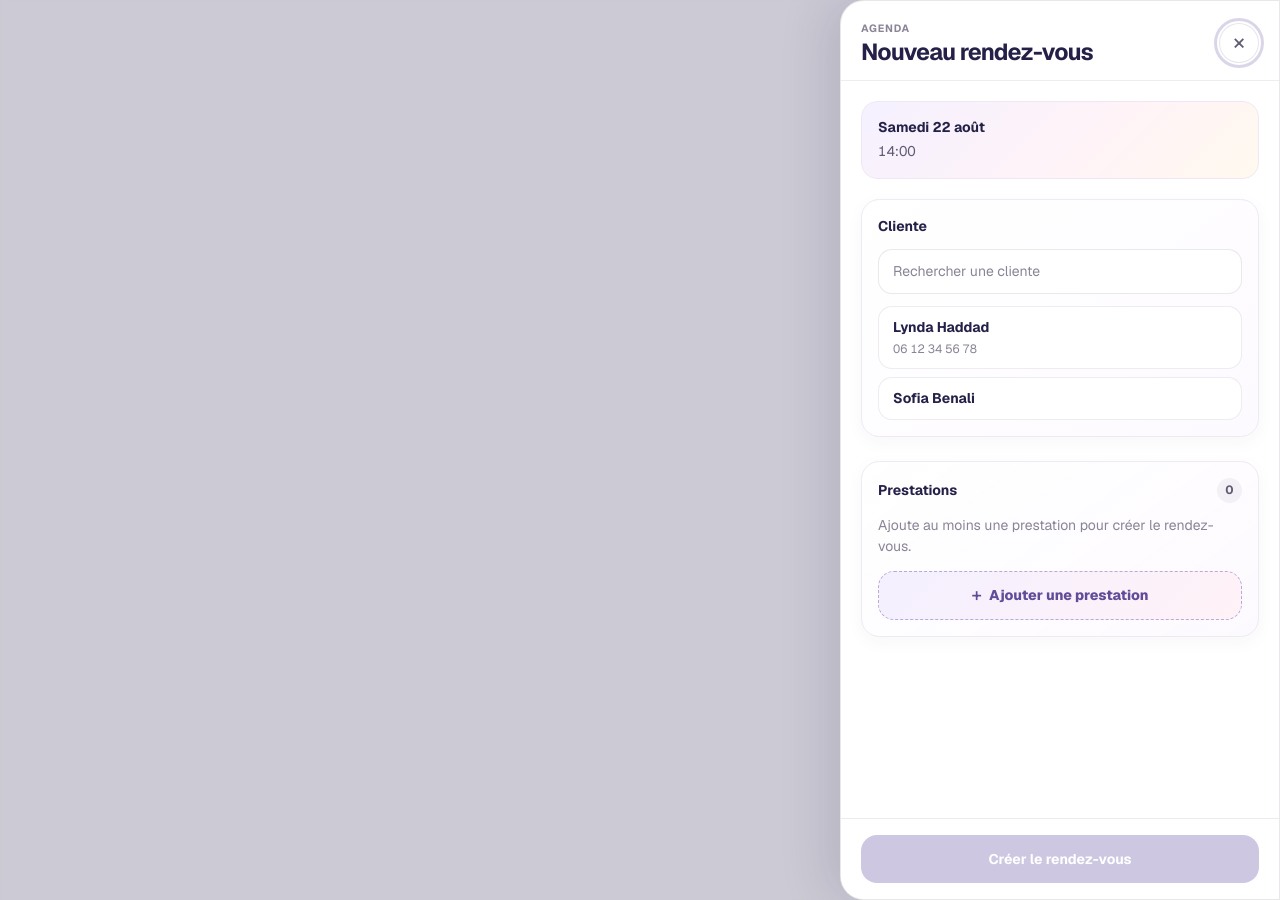
CreateAppointmentPanel › keeps the submit button disabled until a client and a service are chosen
Expected: the button "Créer le rendez-vous" is disabled, [861,835,1259,883]
Click the button "Lynda Haddad 06 12 34 56 78" at (941, 327), box [878,306,1242,369]
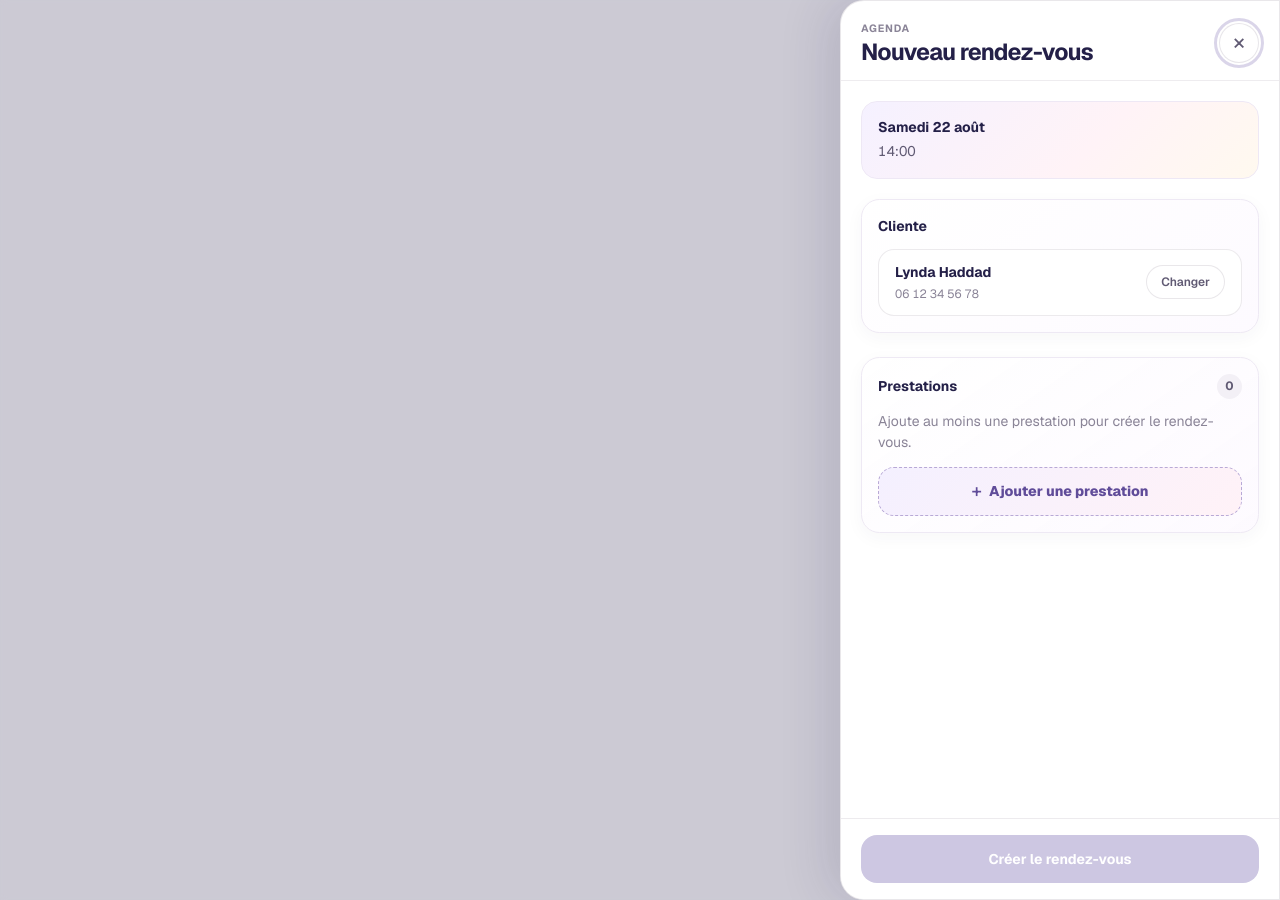
Expected: the button "Créer le rendez-vous" is disabled, [861,835,1259,883]
Click the button "+ Ajouter une prestation" at (1060, 491), box [878,467,1242,516]
(page scrolled)
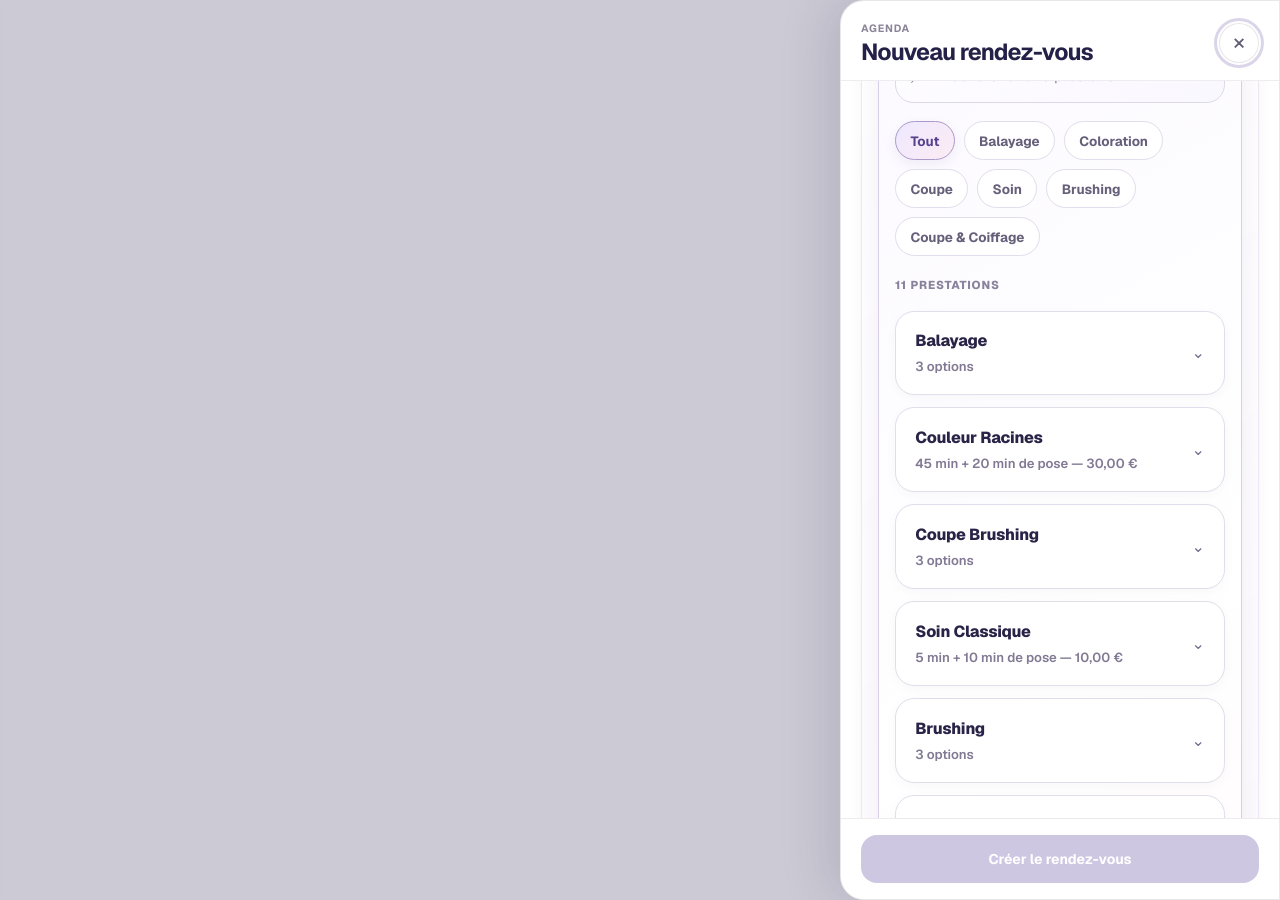
Click the button with aria-label "Sélectionner Couleur Racines" at (979, 438), box [896,408,1224,491]
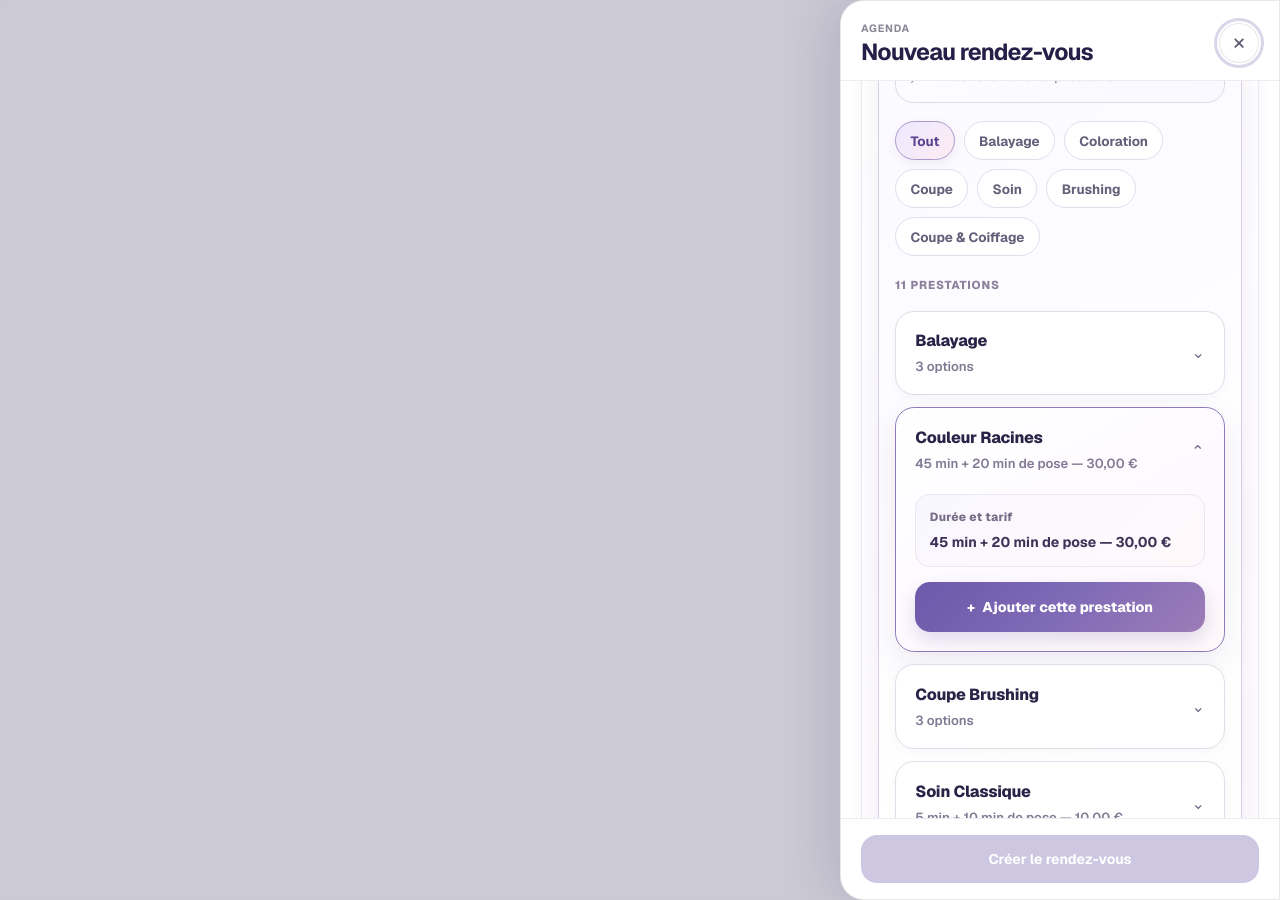
Click the button "+ Ajouter cette prestation" at (1060, 607), box [915,582,1205,632]
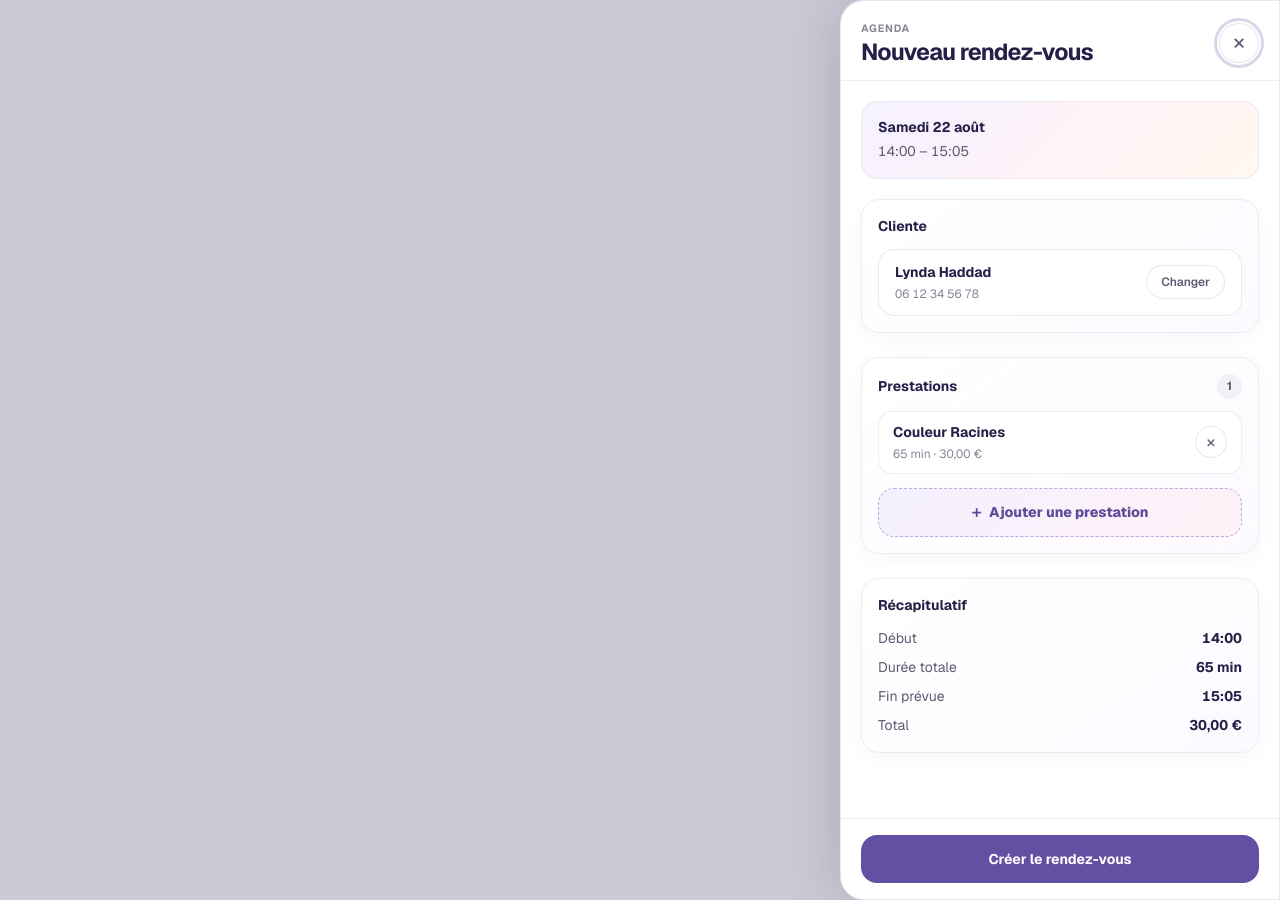
Now the button "Créer le rendez-vous" is enabled, box [861,835,1259,883]
